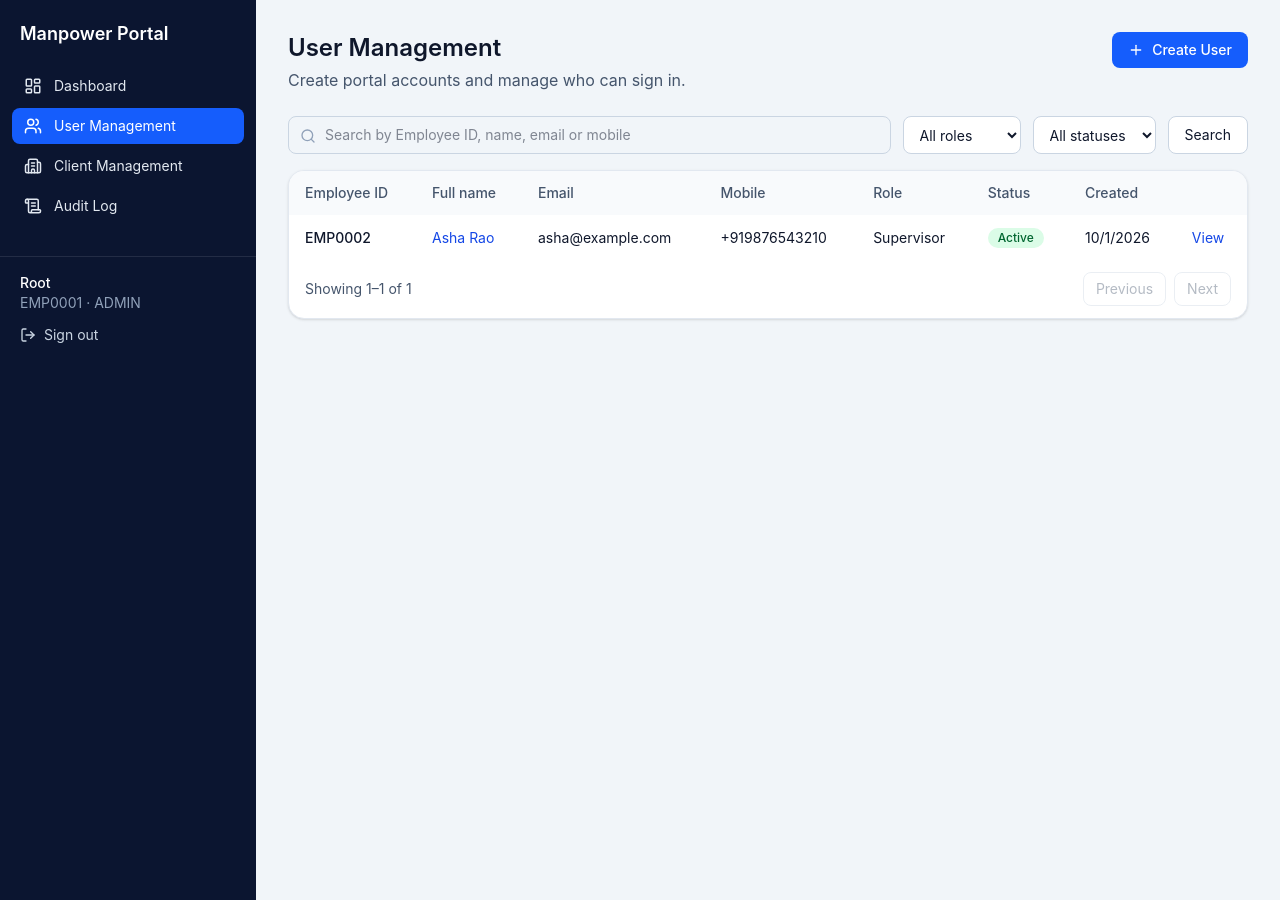
Test: Create User button opens the separate create page, which has no Employee ID input
Click the button "Create User" at (1180, 50), box [1112,32,1248,68]
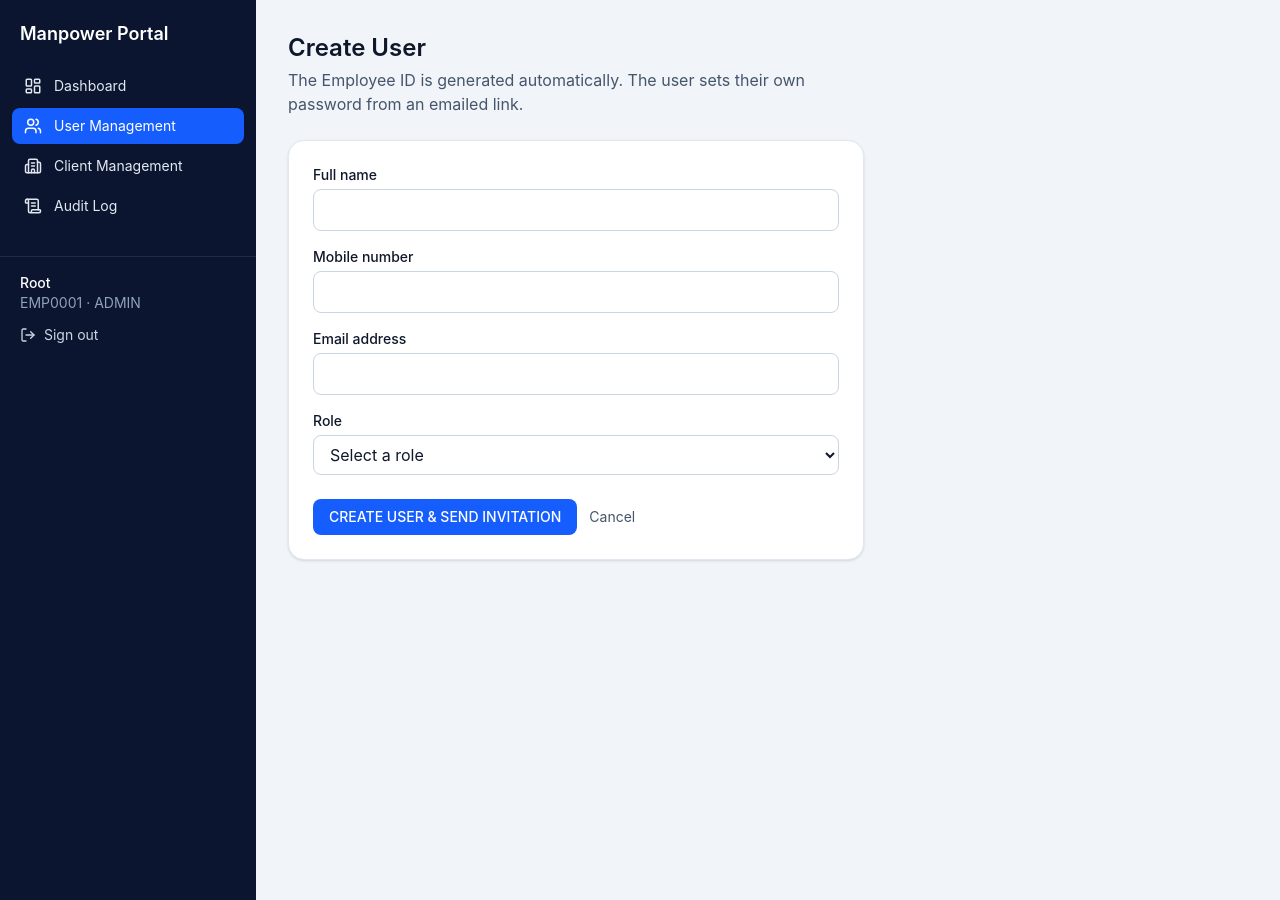
Expected: the heading "Create User" is shown, [288,33,426,62]
Expected: the button "CREATE USER & SEND INVITATION" is shown, [313,499,577,535]
